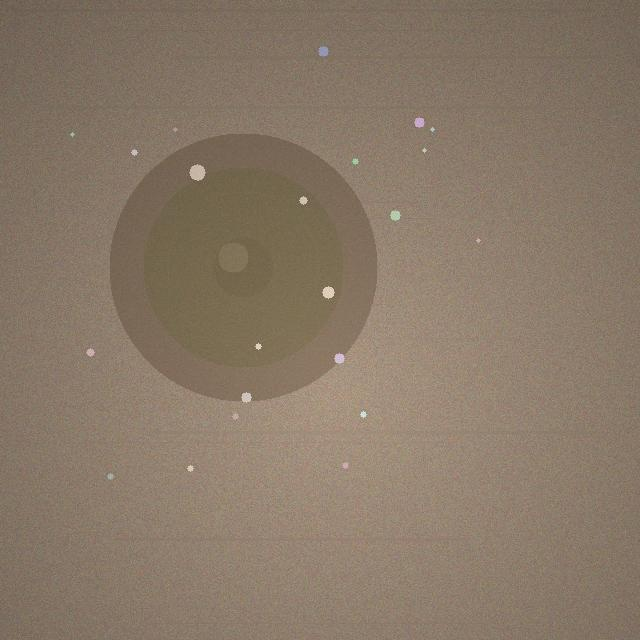overburn: (109, 133, 377, 401)
